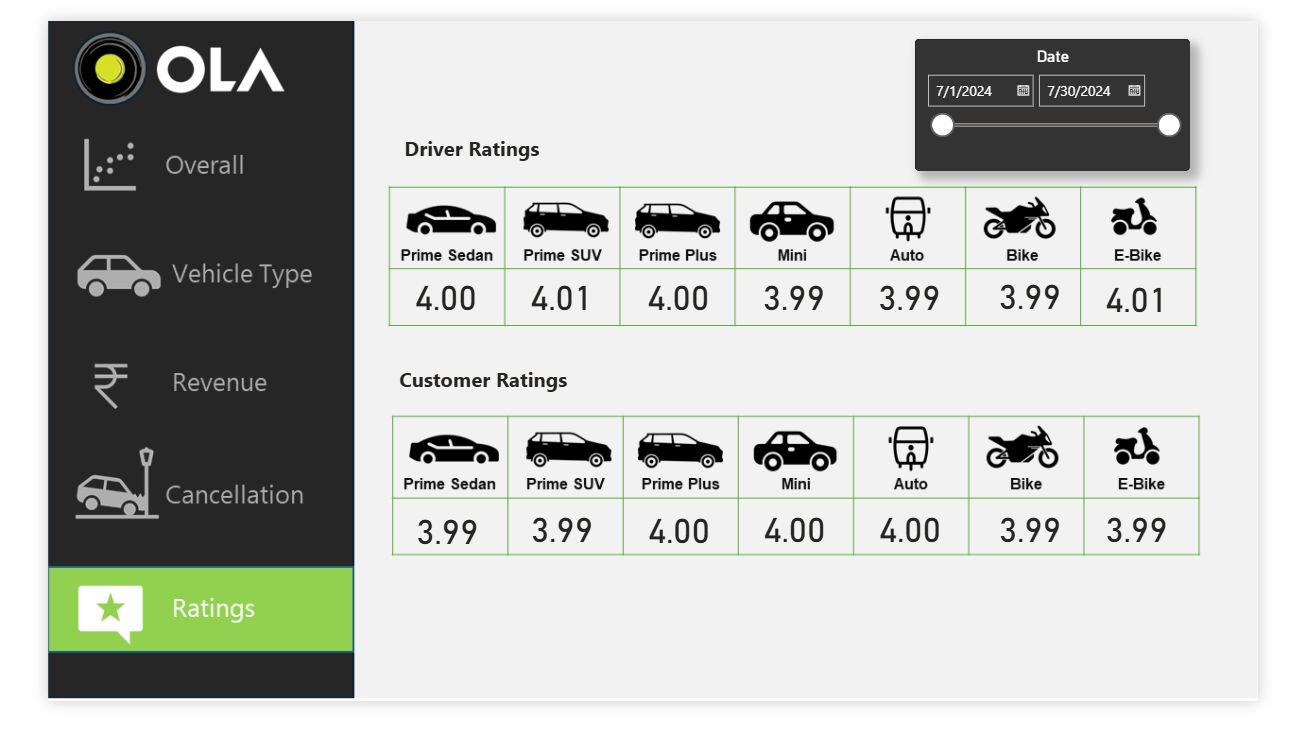

This screenshot's page, from the dashboard's own definition file:
{"tool":"powerbi","page":{"name":"Ratings","canvas":[1280,720],"ordinal":4},"visuals":[{"type":"actionButton","box":[0,112.5,320.4,90.7],"z":0},{"type":"actionButton","box":[1.6,326.7,320.4,90.7],"z":1000},{"type":"actionButton","box":[0,575.2,320.4,90.7],"z":2000},{"type":"actionButton","box":[3.1,445.5,320.4,90.7],"z":3000},{"type":"actionButton","box":[0,221.9,320.4,90.7],"z":4000},{"type":"card","fields":{"Values":["Avg(ola_bookings.Driver_Ratings)"]},"box":[365.7,267.3,111,45.3],"z":5000},{"type":"card","fields":{"Values":["Avg(ola_bookings.Driver_Ratings)"]},"box":[487.7,267.3,111,45.3],"z":6000},{"type":"card","fields":{"Values":["Avg(ola_bookings.Driver_Ratings)"]},"box":[611.1,267.3,111,45.3],"z":7000},{"type":"card","fields":{"Values":["Avg(ola_bookings.Driver_Ratings)"]},"box":[733,267.3,111,45.3],"z":8000},{"type":"card","fields":{"Values":["Avg(ola_bookings.Customer_Rating)"]},"box":[367.3,514.2,111,45.3],"z":9000},{"type":"card","fields":{"Values":["Avg(ola_bookings.Driver_Ratings)"]},"box":[855,267.3,111,45.3],"z":10000},{"type":"card","fields":{"Values":["Avg(ola_bookings.Driver_Ratings)"]},"box":[983,265.5,111.9,46.1],"z":11000},{"type":"card","fields":{"Values":["Avg(ola_bookings.Driver_Ratings)"]},"box":[1095,267.7,111.9,46.1],"z":12000},{"type":"textbox","box":[354.4,114.1,189.1,44.3],"z":13000},{"type":"textbox","box":[354.4,359.5,213,42.6],"z":14000},{"type":"card","fields":{"Values":["Avg(ola_bookings.Customer_Rating)"]},"box":[487.2,512.8,112.4,44.3],"z":15000},{"type":"card","fields":{"Values":["Avg(ola_bookings.Customer_Rating)"]},"box":[611.6,514.5,112.4,44.3],"z":16000},{"type":"card","fields":{"Values":["Avg(ola_bookings.Customer_Rating)"]},"box":[732.6,512.8,112.4,44.3],"z":17000},{"type":"card","fields":{"Values":["Avg(ola_bookings.Customer_Rating)"]},"box":[855.2,512.8,112.4,44.3],"z":18000},{"type":"card","fields":{"Values":["Avg(ola_bookings.Customer_Rating)"]},"box":[983,512.8,112.4,44.3],"z":19000},{"type":"card","fields":{"Values":["Avg(ola_bookings.Customer_Rating)"]},"box":[1095.4,512.8,112.4,44.3],"z":20000},{"type":"slicer","title":"Date","fields":{"Values":["ola_bookings.Date"]},"box":[917.5,18.8,290.7,139.1],"z":21000}]}

Visuals, with their boxes in screenshot pixels (x1, y1, x2, y2), scaled from the page's 1280x720 canvas onto the 1305x730 screenshot:
actionButton: box(0, 114, 327, 206)
actionButton: box(2, 331, 328, 423)
actionButton: box(0, 583, 327, 675)
actionButton: box(3, 452, 330, 544)
actionButton: box(0, 225, 327, 317)
card - Avg(ola_bookings.Driver_Ratings): box(373, 271, 486, 317)
card - Avg(ola_bookings.Driver_Ratings): box(497, 271, 610, 317)
card - Avg(ola_bookings.Driver_Ratings): box(623, 271, 736, 317)
card - Avg(ola_bookings.Driver_Ratings): box(747, 271, 860, 317)
card - Avg(ola_bookings.Customer_Rating): box(374, 521, 488, 567)
card - Avg(ola_bookings.Driver_Ratings): box(872, 271, 985, 317)
card - Avg(ola_bookings.Driver_Ratings): box(1002, 269, 1116, 316)
card - Avg(ola_bookings.Driver_Ratings): box(1116, 271, 1230, 318)
textbox: box(361, 116, 554, 161)
textbox: box(361, 364, 578, 408)
card - Avg(ola_bookings.Customer_Rating): box(497, 520, 611, 565)
card - Avg(ola_bookings.Customer_Rating): box(624, 522, 738, 567)
card - Avg(ola_bookings.Customer_Rating): box(747, 520, 862, 565)
card - Avg(ola_bookings.Customer_Rating): box(872, 520, 986, 565)
card - Avg(ola_bookings.Customer_Rating): box(1002, 520, 1117, 565)
card - Avg(ola_bookings.Customer_Rating): box(1117, 520, 1231, 565)
"Date" slicer: box(935, 19, 1232, 160)
